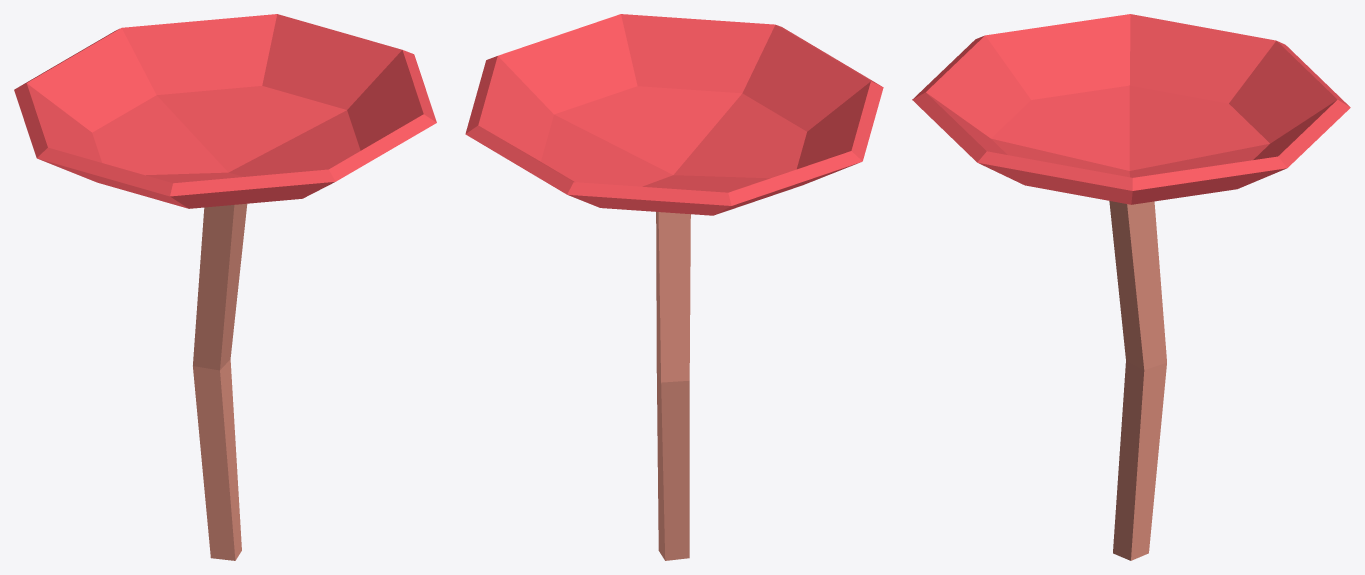
Rendered from Mushroom_d_01.fbx.
The picture shows the model from 3 angles, left to right: view 1: azimuth 30°, elevation 25°; view 2: azimuth 150°, elevation 25°; view 3: azimuth 270°, elevation 25°; orthographic projection.
Parts seen in each view (by area): view 1: Mushroom_d_01; view 2: Mushroom_d_01; view 3: Mushroom_d_01.
Part boxes in pixels (x1,y1,x2,y2): Mushroom_d_01: (14,14,436,560); Mushroom_d_01: (465,14,883,560); Mushroom_d_01: (912,14,1350,560).
Size of the model in its own units: 22.75 by 26.53 by 22.76.
